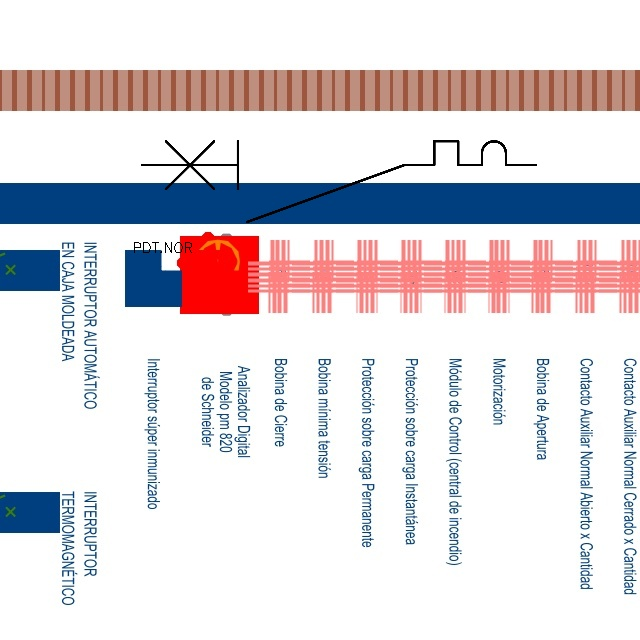interruptor_termomagnetico: (132, 131, 546, 232)
